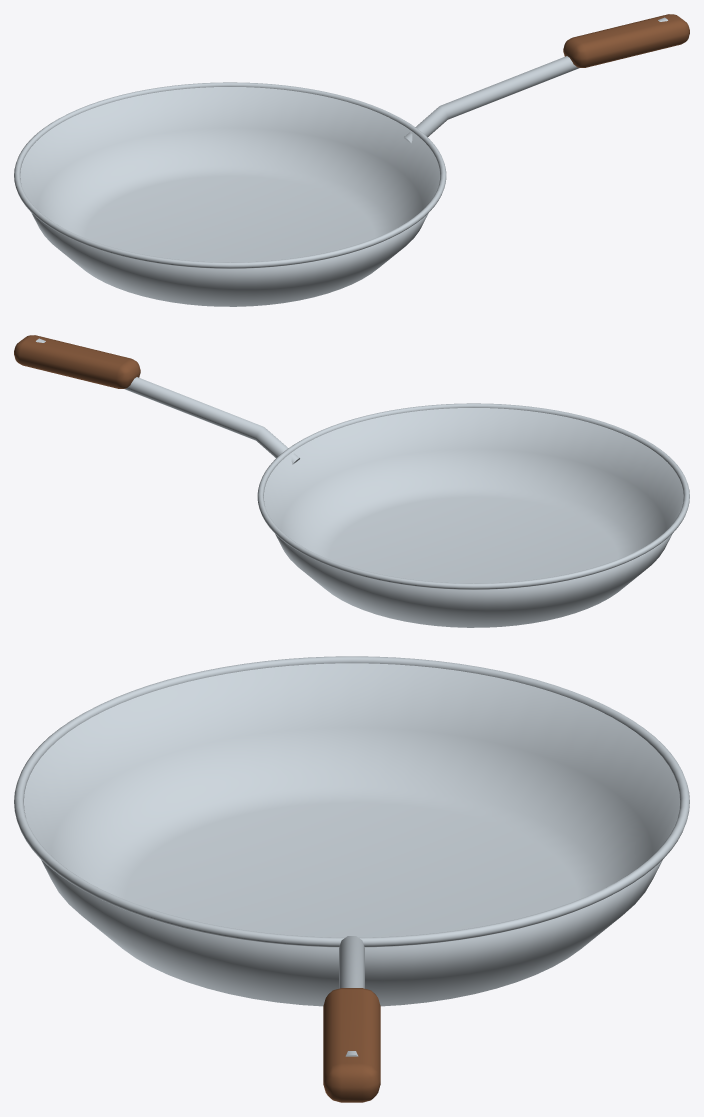
File: FryingPan.glb
3 renders of one model, top to bottom at view 1: azimuth 30°, elevation 25°; view 2: azimuth 150°, elevation 25°; view 3: azimuth 270°, elevation 25°, orthographic. The views are drawn at different scales.
Visible parts, largest first — view 1: Vessel.002, Finished rim.002, Grip, Handle shank.001; view 2: Vessel.002, Finished rim.002, Grip, Handle shank.001; view 3: Vessel.002, Finished rim.002, Grip, Handle shank.001.
Boxes of the visible parts, box(x1,y1,x2,y2) form: Vessel.002: box(20, 87, 439, 306); Finished rim.002: box(14, 82, 446, 268); Grip: box(563, 14, 689, 67); Handle shank.001: box(404, 17, 667, 143); Vessel.002: box(264, 408, 683, 627); Finished rim.002: box(257, 403, 689, 589); Grip: box(14, 335, 140, 388); Handle shank.001: box(36, 338, 299, 464); Vessel.002: box(24, 663, 679, 1006); Finished rim.002: box(14, 656, 689, 947); Grip: box(323, 988, 380, 1102); Handle shank.001: box(339, 936, 364, 1056).
Size of the model in its own units: 0.4454 by 0.0777 by 0.2598.
